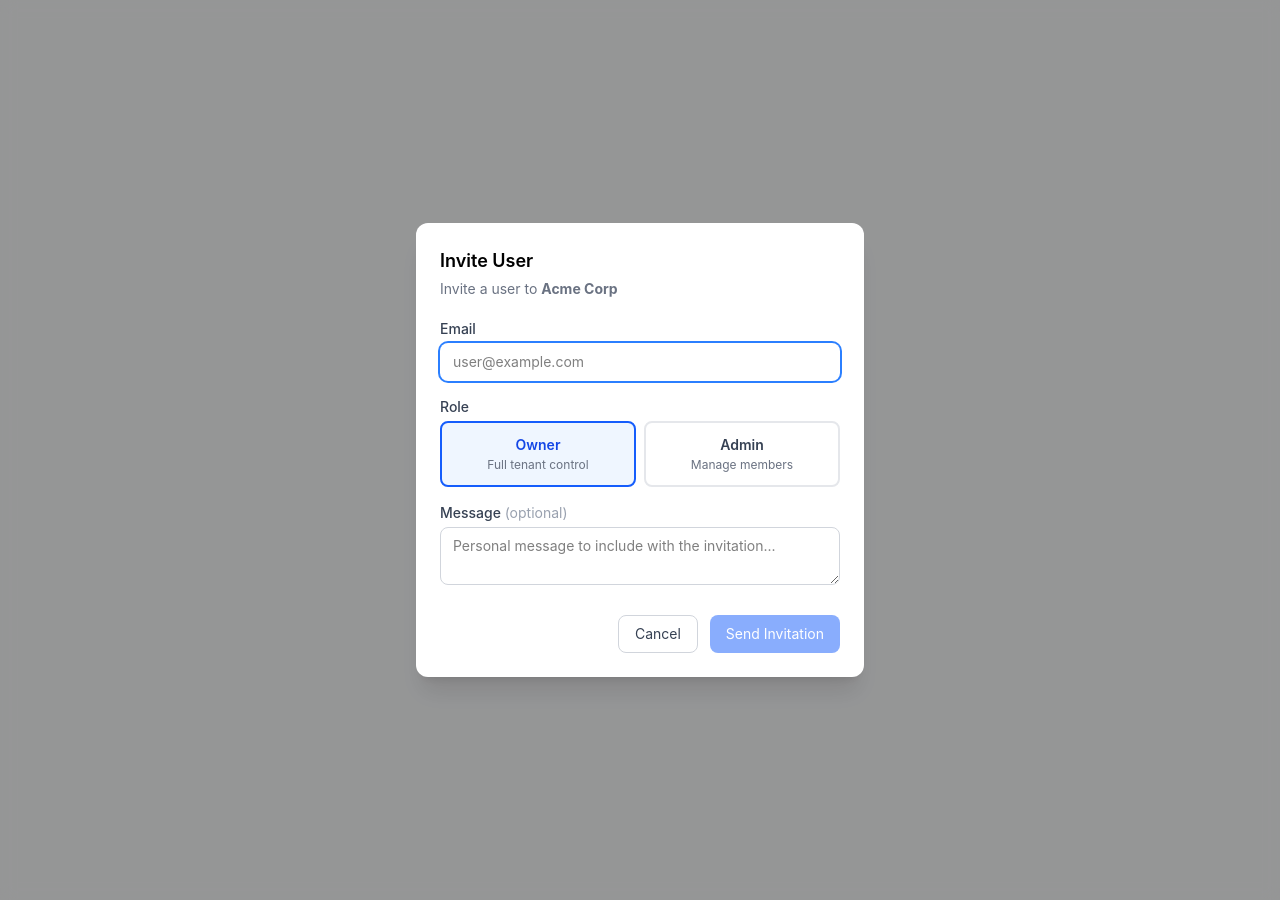
InviteUserDialog › shows error on failure
The width and height of the screenshot is (1280, 900).
In the field labelled "Email": (640, 362) [440,343,840,381], type "dup@example.com"
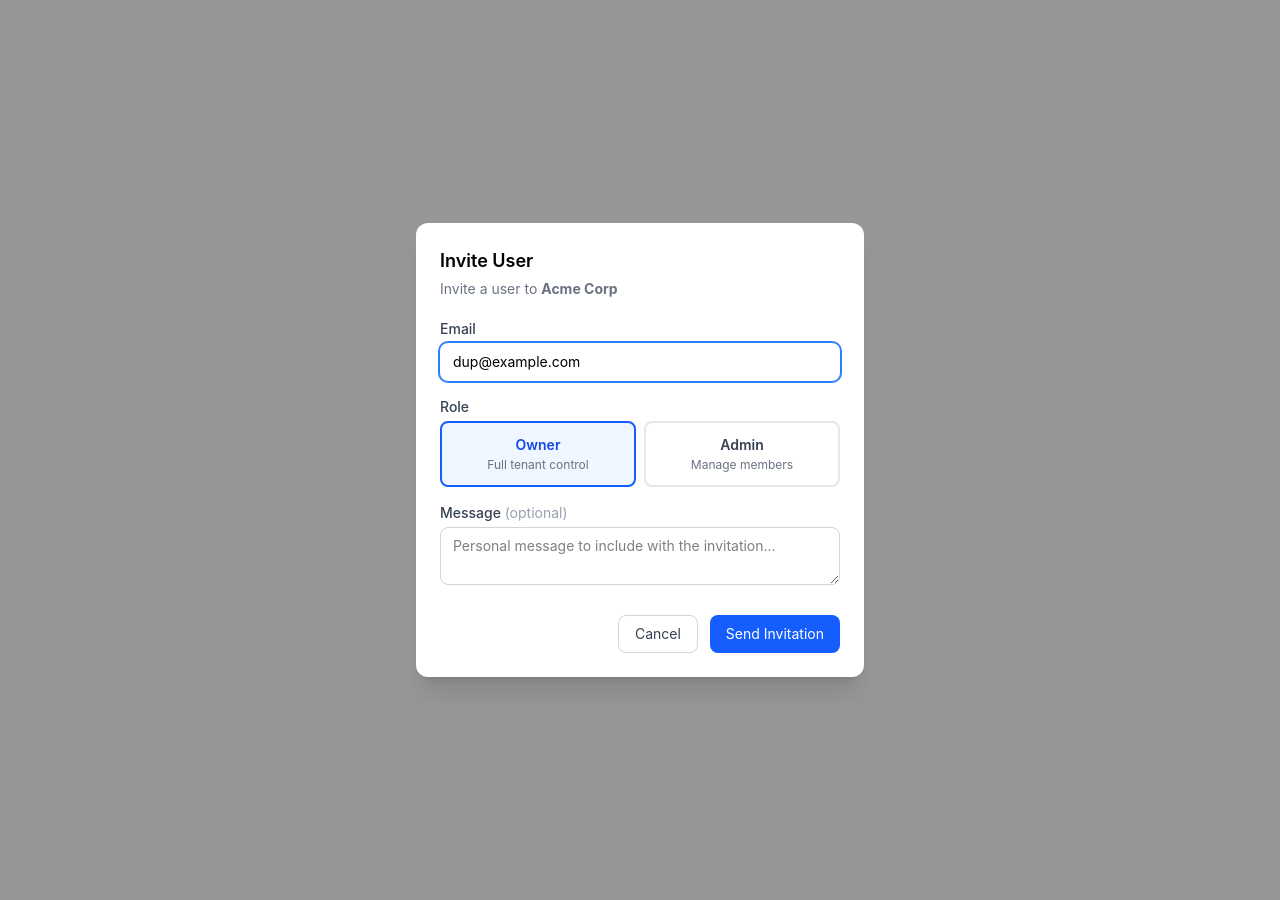
Click the button "Send Invitation": (775, 634) [710,615,840,653]
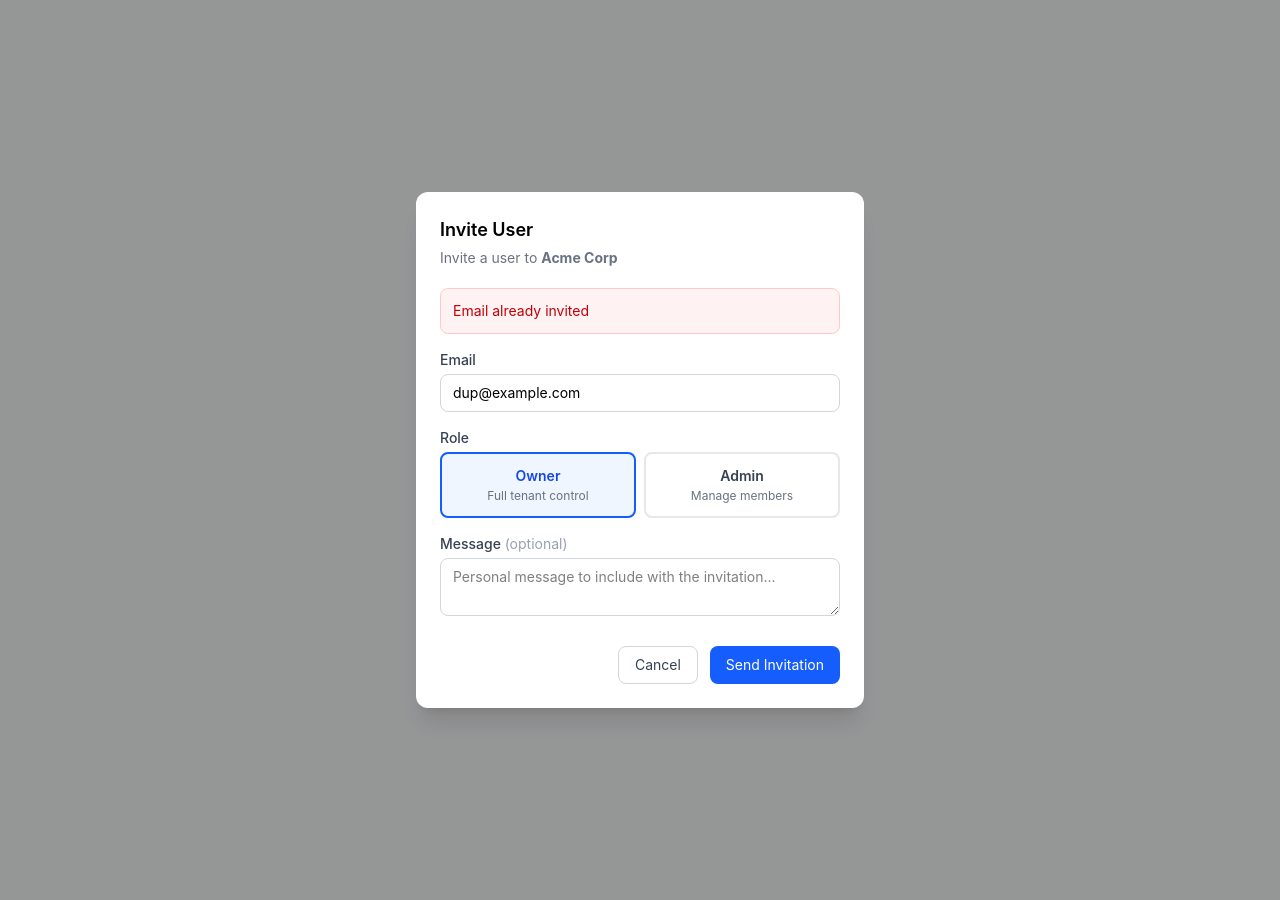
Check: the text "Email already invited" is shown, box [440,288,840,334]
